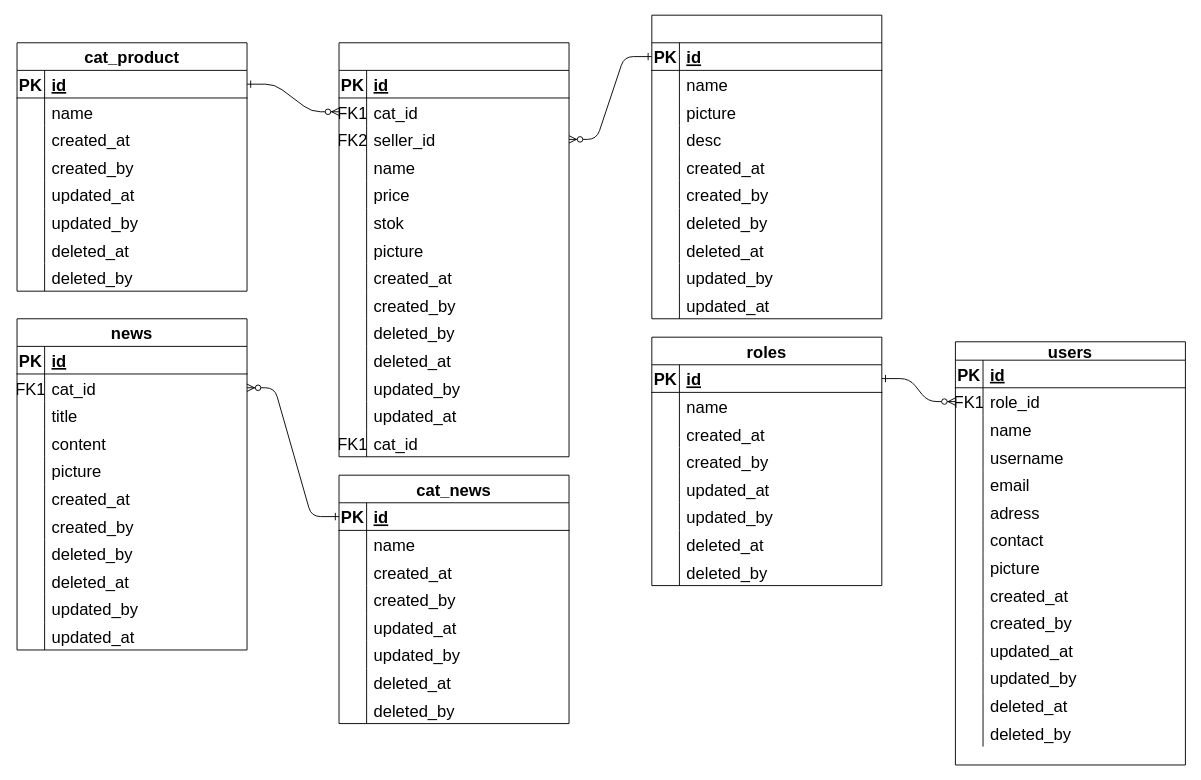
This 1201x780 diagram has some shape labels left out. The shapes that lost their labels are listed below. From the top down, each one's box as (x1, y1, x2, y2) in pixels, then its label:
(651, 14, 882, 319): Stand/Seller
(338, 42, 569, 457): Products
